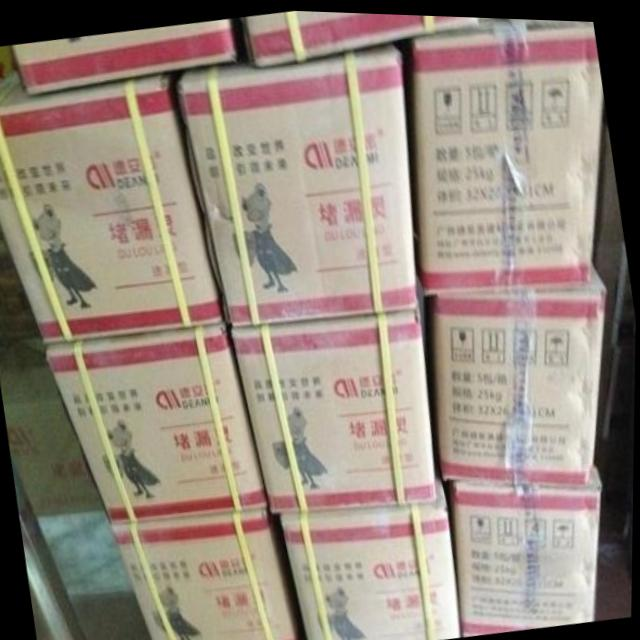box: (174, 41, 421, 317), (0, 69, 226, 341), (404, 14, 604, 294), (45, 318, 272, 520), (231, 296, 438, 512), (425, 256, 608, 481), (281, 471, 464, 640), (447, 460, 604, 632), (111, 507, 307, 640), (0, 336, 106, 516), (12, 17, 239, 96), (232, 9, 483, 68), (0, 45, 16, 80)
